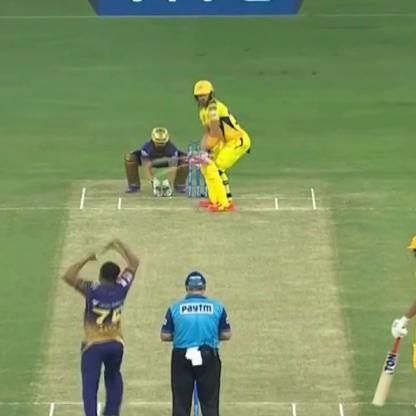bat: (141, 159, 211, 182)
pitch: (23, 180, 364, 416)
